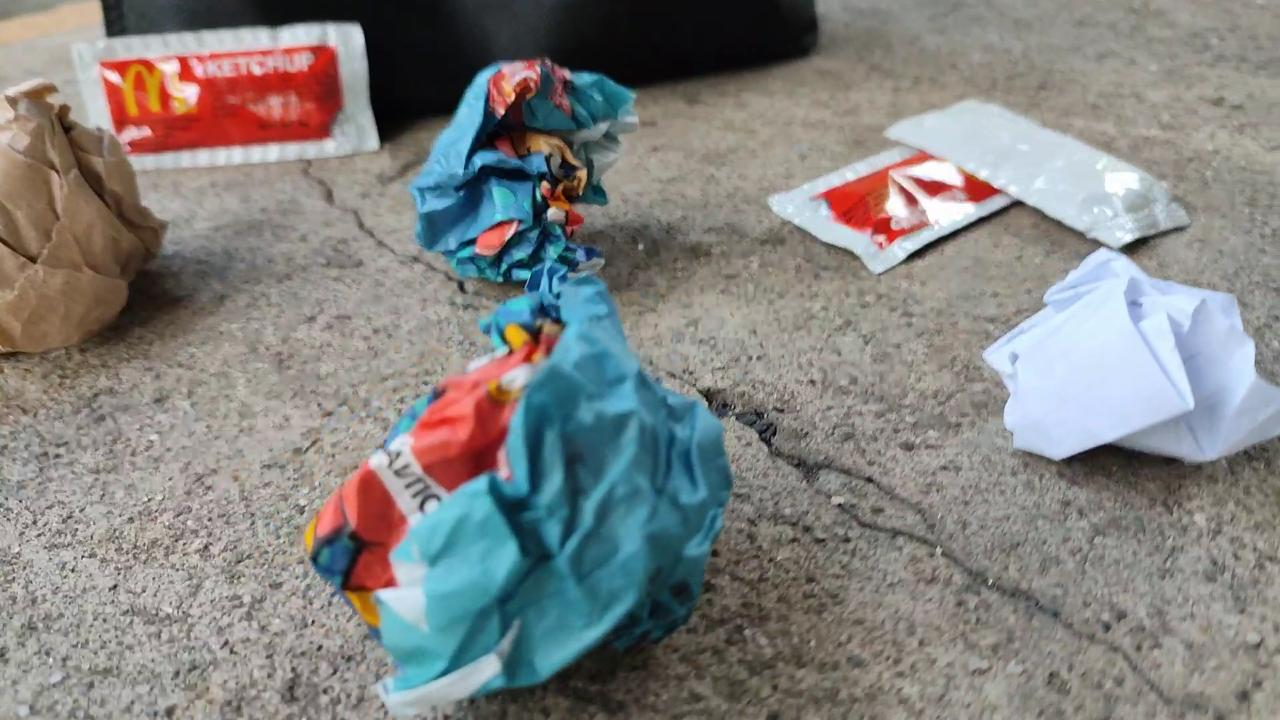Paper: (254, 287, 749, 706), (949, 245, 1280, 495), (406, 39, 669, 291), (0, 74, 172, 378)
